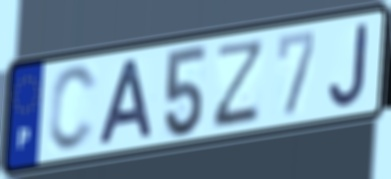5: (162, 41, 209, 140)
7: (275, 27, 317, 120)
A: (96, 56, 156, 148)
C: (45, 62, 100, 155)
J: (327, 19, 370, 110)
Z: (209, 35, 268, 131)
